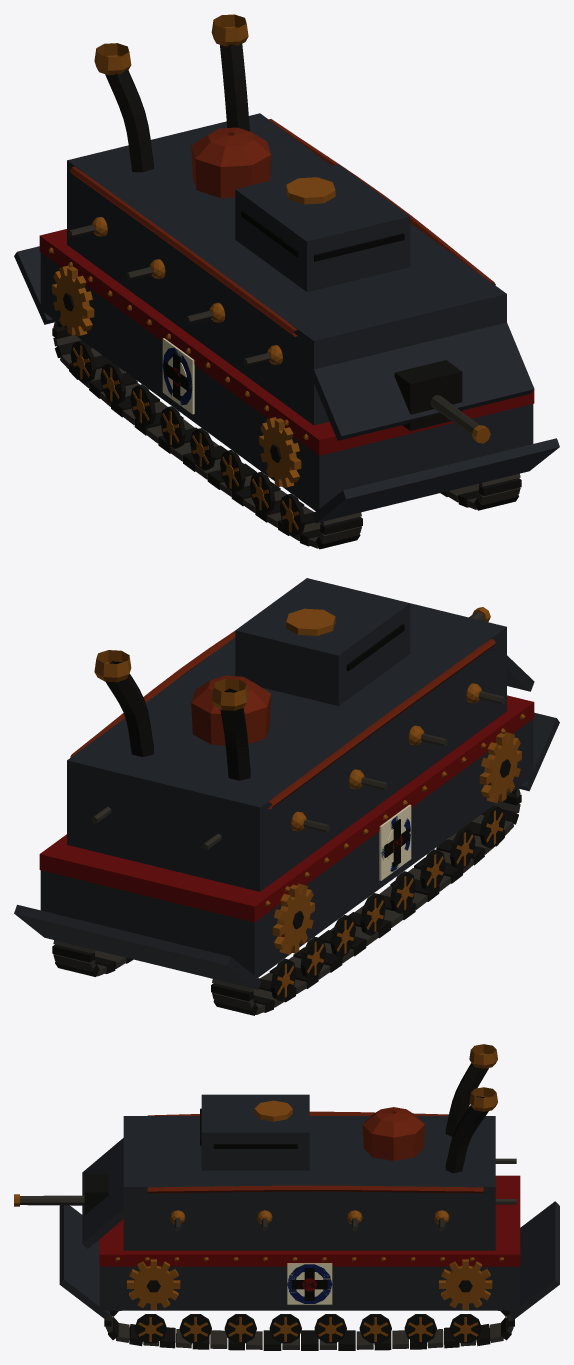
File: Mastodonte.obj
The picture shows the model from 3 angles, top to bottom: view 1: azimuth 30°, elevation 25°; view 2: azimuth 150°, elevation 25°; view 3: azimuth 270°, elevation 25°; orthographic projection. The views are drawn at different scales.
Visible parts, largest first — view 1: Cuerpo, Rueda, Insignia_Cruz_N, Insignia_Escarapela; view 2: Cuerpo, Rueda, Insignia_Cruz_N; view 3: Cuerpo, Rueda, Insignia_Cruz_N, Insignia_Escarapela.
Part boxes in pixels (x1,y1,x2,y2): Cuerpo: (14,14,559,549); Rueda: (70,340,305,536); Insignia_Cruz_N: (162,338,194,414); Insignia_Escarapela: (162,347,192,404); Cuerpo: (14,578,559,1015); Rueda: (270,805,505,1001); Insignia_Cruz_N: (379,804,411,880); Cuerpo: (14,1044,559,1350); Rueda: (134,1314,481,1343); Insignia_Cruz_N: (287,1263,332,1304); Insignia_Escarapela: (287,1264,332,1303).
Size of the model in its own units: 3.74 by 4.48 by 9.1.
